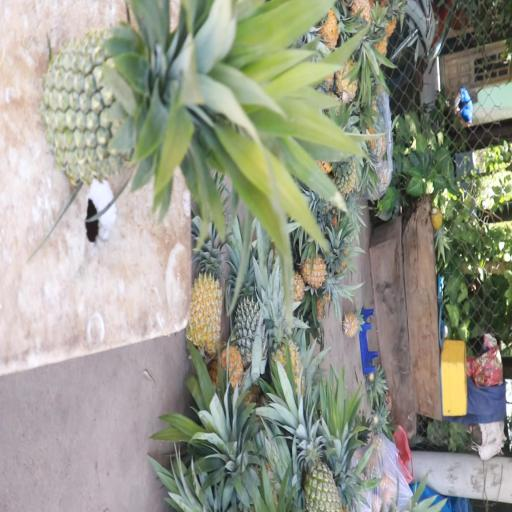------------------------------: (44, 14, 304, 187), (290, 395, 341, 512)
Pineapple - v8 v1: (188, 211, 226, 358), (266, 297, 311, 399), (299, 247, 352, 296)
